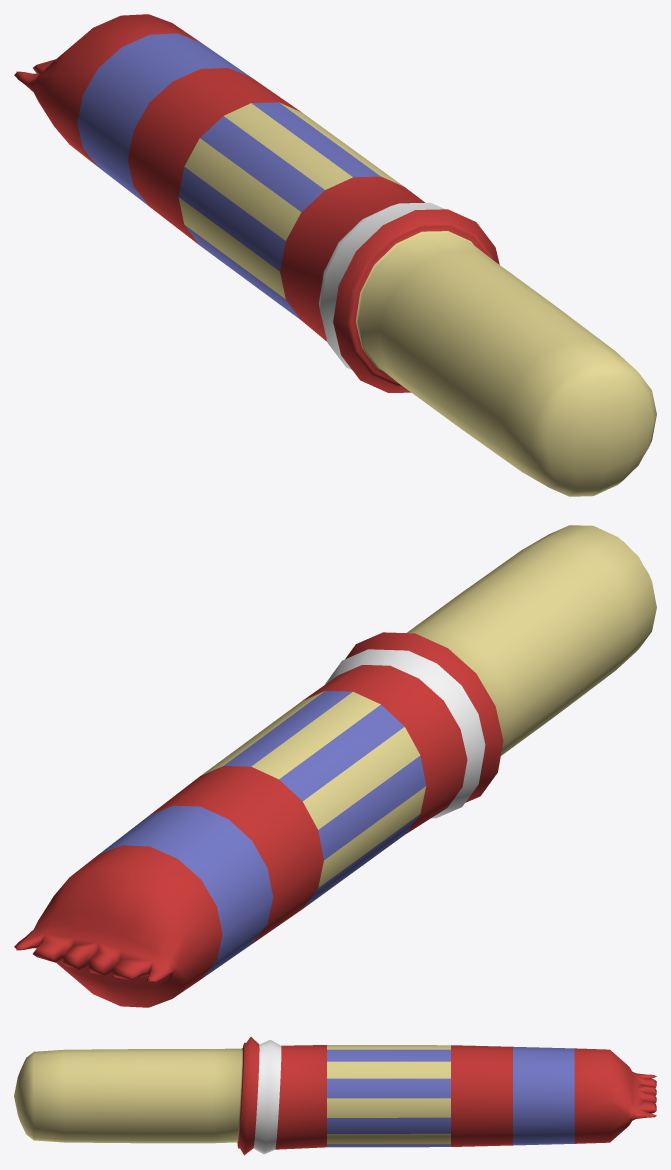
The picture shows the model from 3 angles, top to bottom: view 1: azimuth 30°, elevation 25°; view 2: azimuth 150°, elevation 25°; view 3: azimuth 270°, elevation 25°; orthographic projection. The views are drawn at different scales.
Parts seen in each view (by area): view 1: umai_bo; view 2: umai_bo; view 3: umai_bo.
Part boxes in pixels (x1,y1,x2,y2): umai_bo: [14, 14, 656, 496]; umai_bo: [14, 525, 656, 1007]; umai_bo: [14, 1037, 656, 1155].
Size of the model in its own units: 0.1082 by 0.108 by 0.5803.
